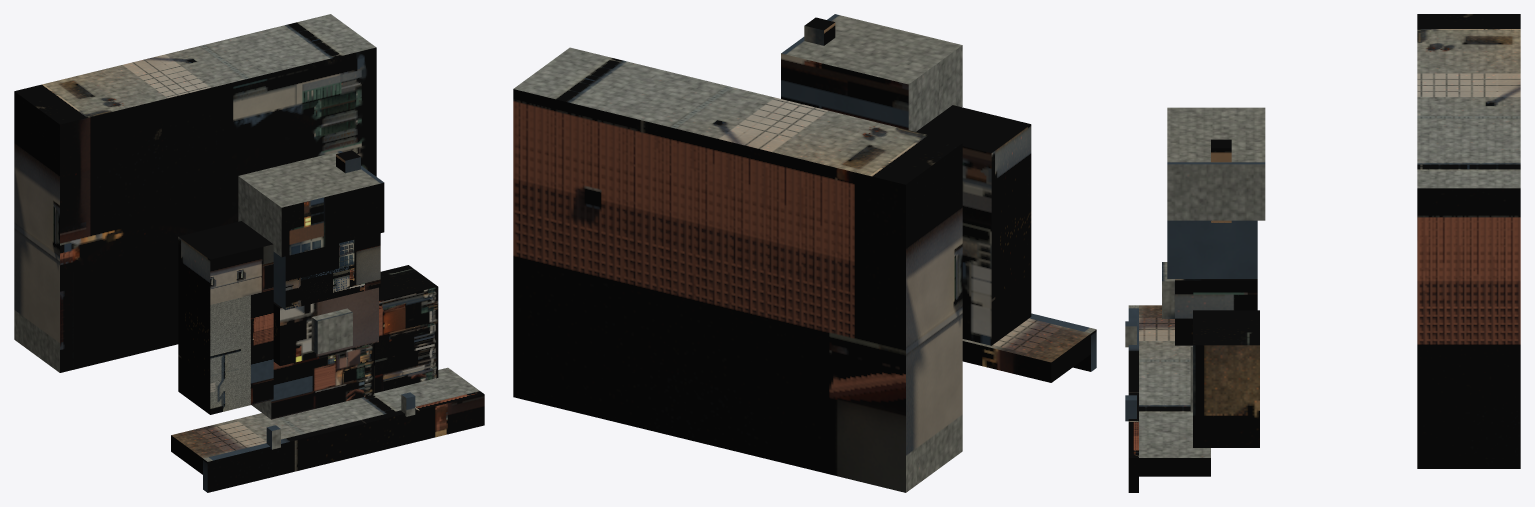
Rendered from environment.obj.
3 views of the same model, side by side, from view 1: azimuth 30°, elevation 25°; view 2: azimuth 150°, elevation 25°; view 3: azimuth 270°, elevation 25° (orthographic). The views are drawn at different scales.
Visible parts, largest first — view 1: TH_RENDER_Environment_EnvironmentBakedAtlas; view 2: TH_RENDER_Environment_EnvironmentBakedAtlas; view 3: TH_RENDER_Environment_EnvironmentBakedAtlas.
Boxes of the visible parts, x1,y1,x2,y2 form: TH_RENDER_Environment_EnvironmentBakedAtlas: [14, 14, 484, 492]; TH_RENDER_Environment_EnvironmentBakedAtlas: [513, 14, 1096, 492]; TH_RENDER_Environment_EnvironmentBakedAtlas: [1125, 14, 1520, 492].
Size of the model in its own units: 16 by 13.5 by 15.33.
